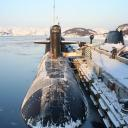submarine: (20, 2, 90, 128)
